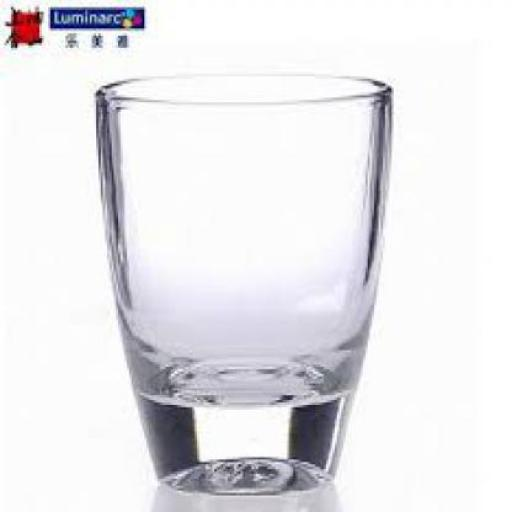glass: (92, 74, 390, 496)
